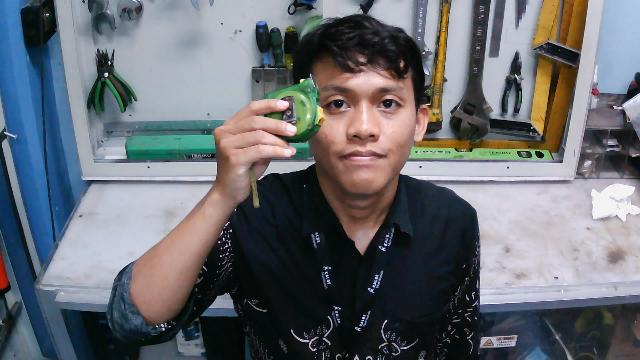meteran: (241, 72, 329, 208)
